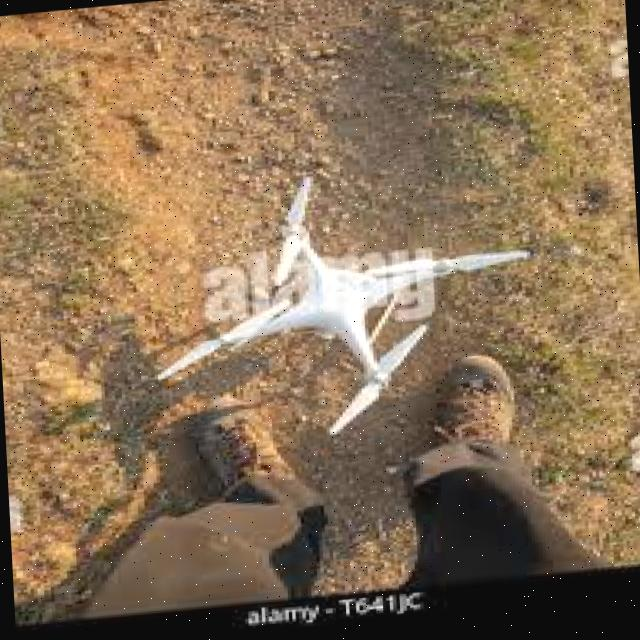drone: (147, 187, 520, 462)
